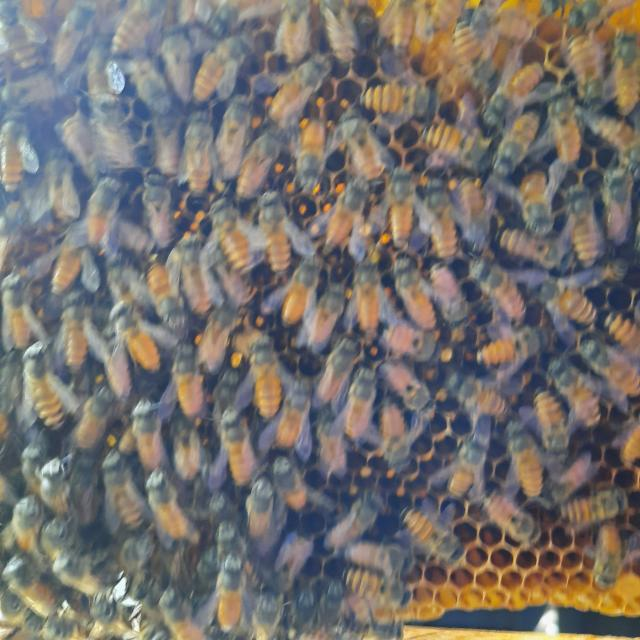honeybee: (269, 57, 330, 134), (192, 33, 256, 106), (479, 60, 548, 127), (394, 246, 449, 330), (439, 421, 495, 503), (576, 339, 640, 408), (19, 342, 66, 435), (100, 446, 152, 530), (420, 112, 490, 172), (216, 401, 263, 489), (416, 170, 460, 264), (169, 235, 220, 315), (471, 256, 533, 321), (400, 508, 470, 564), (381, 356, 442, 418), (337, 108, 390, 179), (112, 304, 162, 379), (325, 485, 387, 545), (321, 178, 374, 248), (147, 474, 199, 545), (451, 170, 496, 252), (0, 264, 43, 349), (119, 53, 173, 120), (147, 260, 192, 340), (378, 170, 424, 248), (235, 132, 285, 202), (5, 560, 58, 626), (497, 226, 571, 273), (53, 1, 101, 73), (487, 492, 549, 547), (365, 80, 446, 122), (108, 0, 169, 55), (506, 422, 549, 500), (546, 96, 593, 166), (54, 304, 100, 375), (61, 115, 111, 180), (168, 339, 207, 422), (341, 566, 414, 610), (336, 367, 380, 440), (600, 162, 640, 242), (564, 182, 605, 260), (0, 109, 37, 195), (494, 111, 542, 177), (280, 258, 322, 333), (69, 384, 119, 446), (210, 206, 258, 270), (43, 226, 88, 294), (292, 114, 332, 190), (305, 283, 349, 352), (531, 388, 572, 462), (96, 84, 133, 165), (381, 401, 422, 474), (473, 326, 544, 368), (383, 316, 445, 364), (315, 338, 358, 407), (152, 583, 204, 640), (246, 338, 284, 416), (153, 100, 189, 182), (557, 486, 630, 526), (258, 192, 296, 268), (0, 0, 39, 74), (593, 105, 640, 166), (461, 375, 514, 429), (215, 553, 249, 636), (136, 171, 174, 245), (185, 112, 218, 196), (489, 0, 539, 55), (566, 35, 607, 101), (197, 291, 233, 365), (269, 387, 309, 453), (45, 158, 82, 228), (131, 402, 169, 470), (84, 179, 122, 247), (438, 262, 477, 328), (313, 410, 353, 472), (4, 493, 46, 552), (56, 558, 115, 600), (275, 526, 317, 585), (323, 0, 362, 62), (280, 0, 318, 63), (593, 525, 629, 590), (451, 0, 485, 68), (551, 284, 605, 326), (93, 590, 138, 640), (267, 460, 310, 512), (561, 0, 632, 31), (246, 474, 276, 547), (353, 261, 383, 333), (386, 0, 420, 61), (244, 589, 284, 640), (617, 34, 640, 113), (522, 175, 558, 224), (604, 305, 640, 347), (43, 517, 78, 558), (42, 459, 71, 508)
